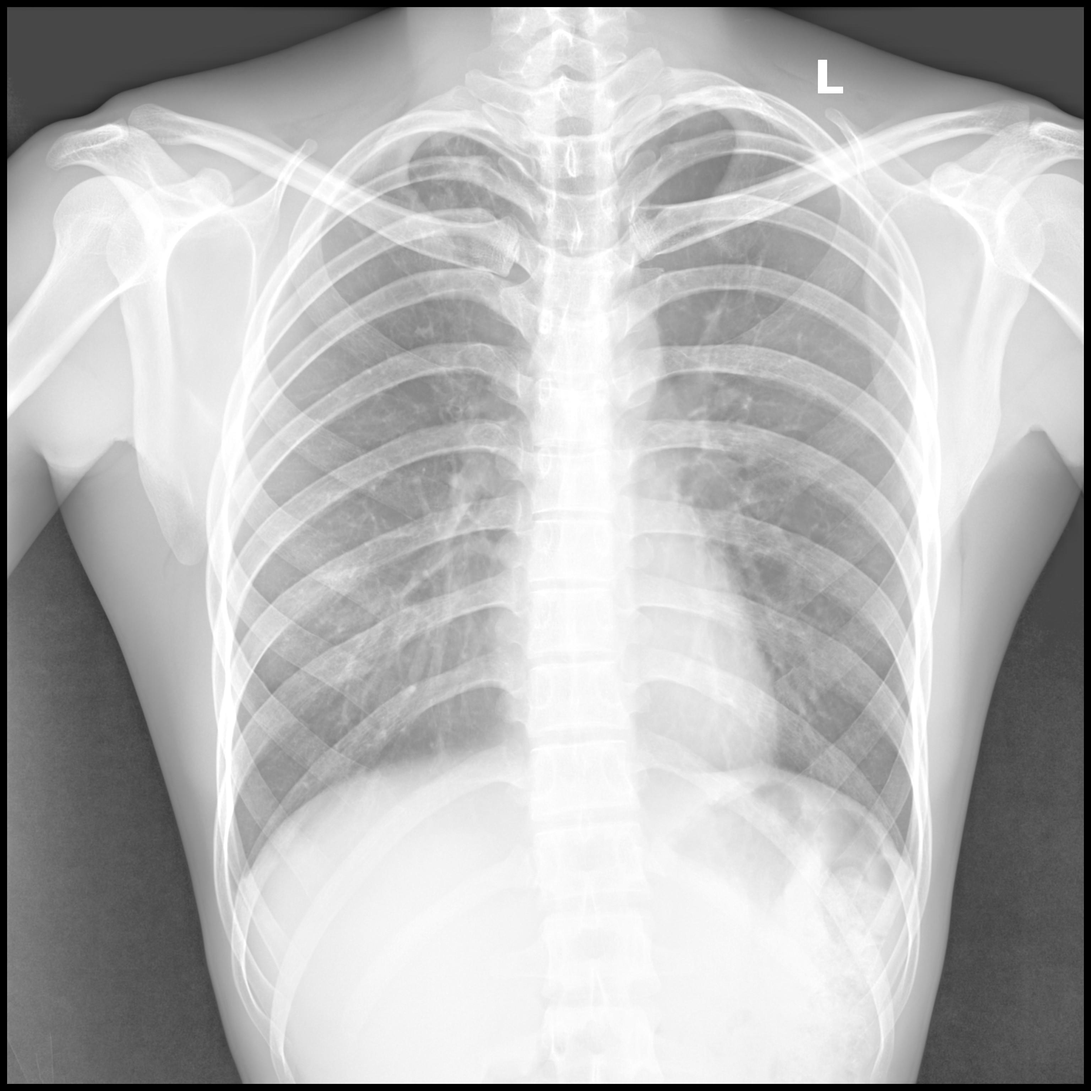Pulmonary fibrosis: (416, 135, 499, 207)
